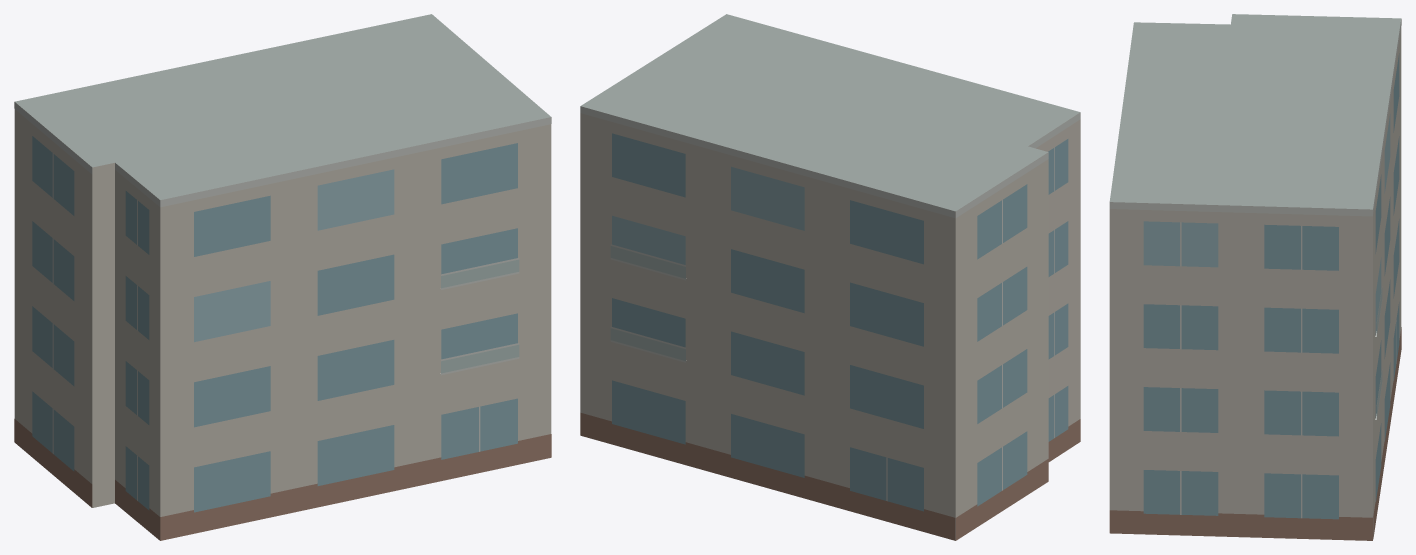
Rendered from survey-upis-32652773.glb.
3 views of the same model, side by side, from view 1: azimuth 30°, elevation 25°; view 2: azimuth 150°, elevation 25°; view 3: azimuth 270°, elevation 25° (orthographic). The views are drawn at different scales.
Parts seen in each view (by area): view 1: survey-upis-32652773.tmp; view 2: survey-upis-32652773.tmp; view 3: survey-upis-32652773.tmp.
Part boxes in pixels (x1,y1,x2,y2): survey-upis-32652773.tmp: (14, 14, 551, 540); survey-upis-32652773.tmp: (580, 14, 1080, 540); survey-upis-32652773.tmp: (1109, 14, 1401, 540).
Bounding box in the file's own units: 14.75 × 11.65 × 9.31.
